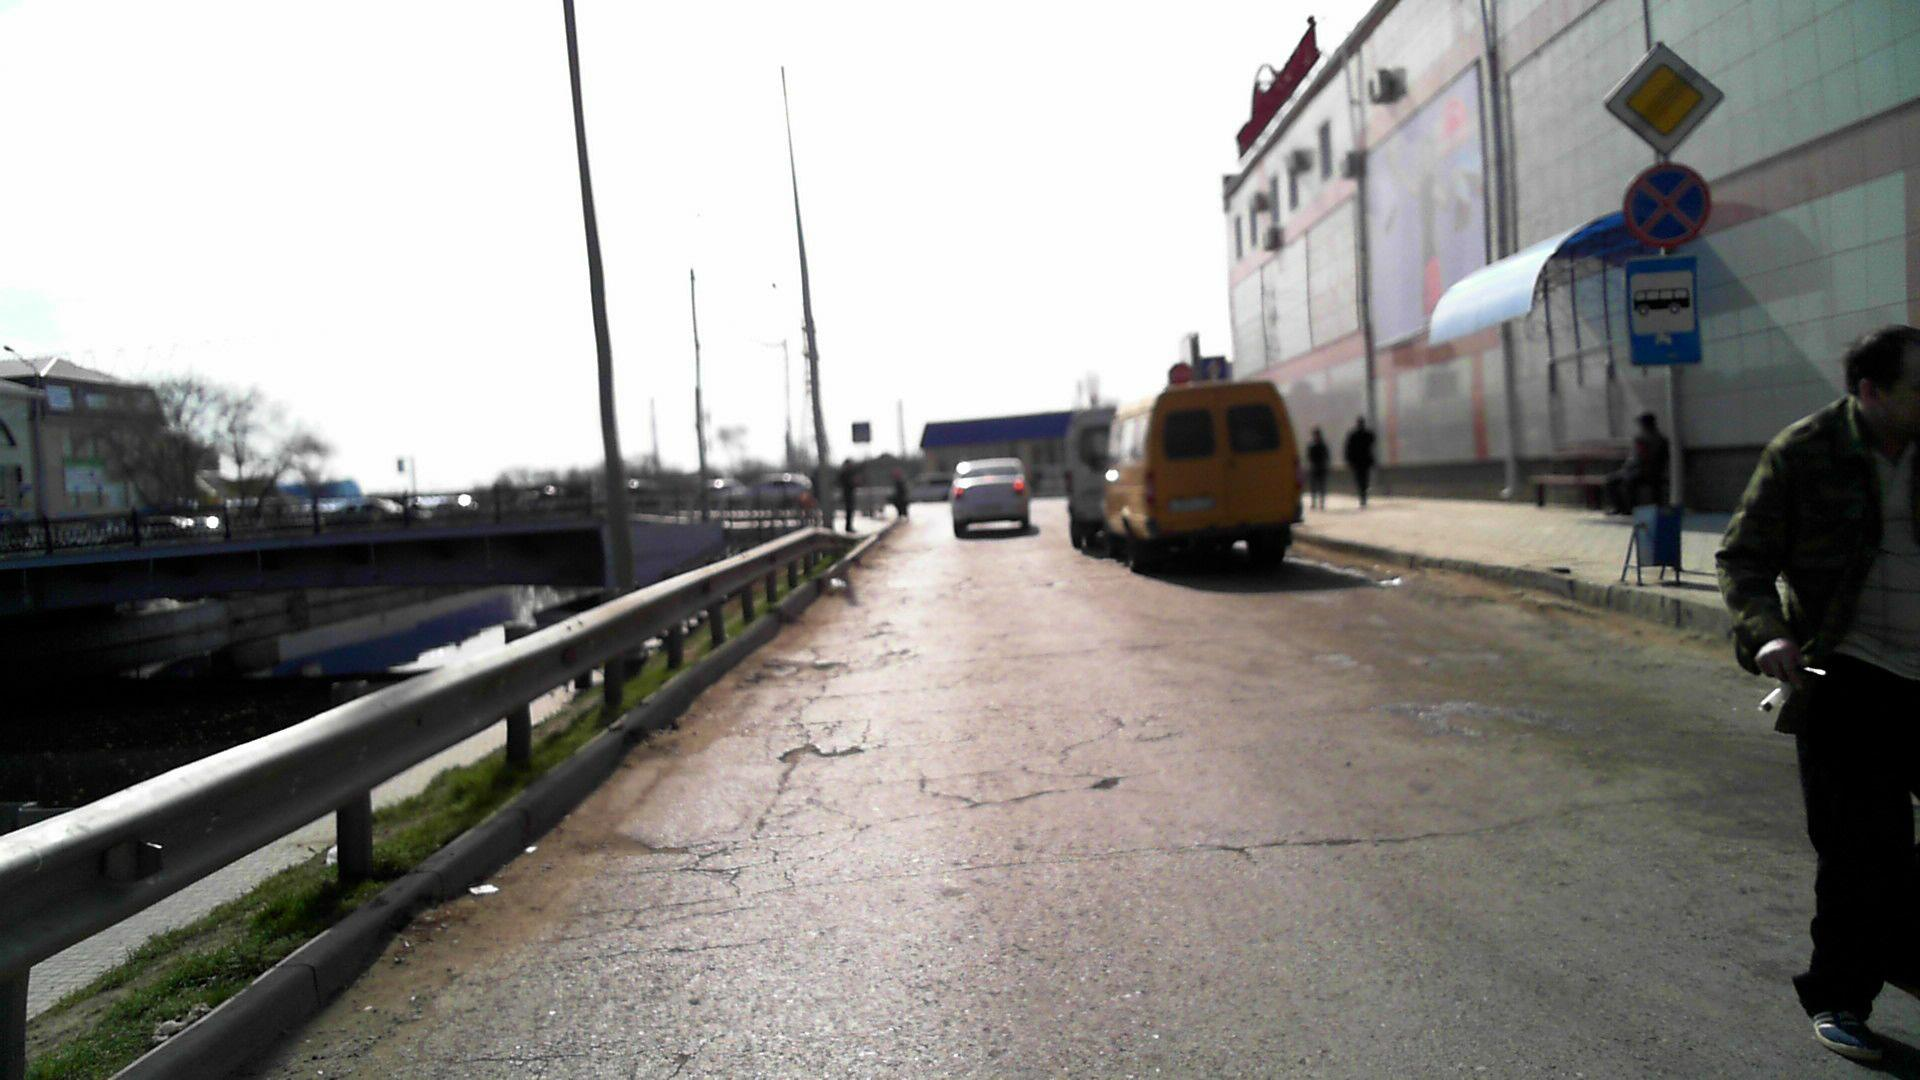2_2: (1601, 40, 1726, 157)
2_5: (1168, 363, 1191, 386)
3_27: (1622, 161, 1713, 248)
5_16: (1623, 256, 1705, 364)
5_19_2: (851, 421, 870, 443)
5_6: (1200, 356, 1228, 384)
